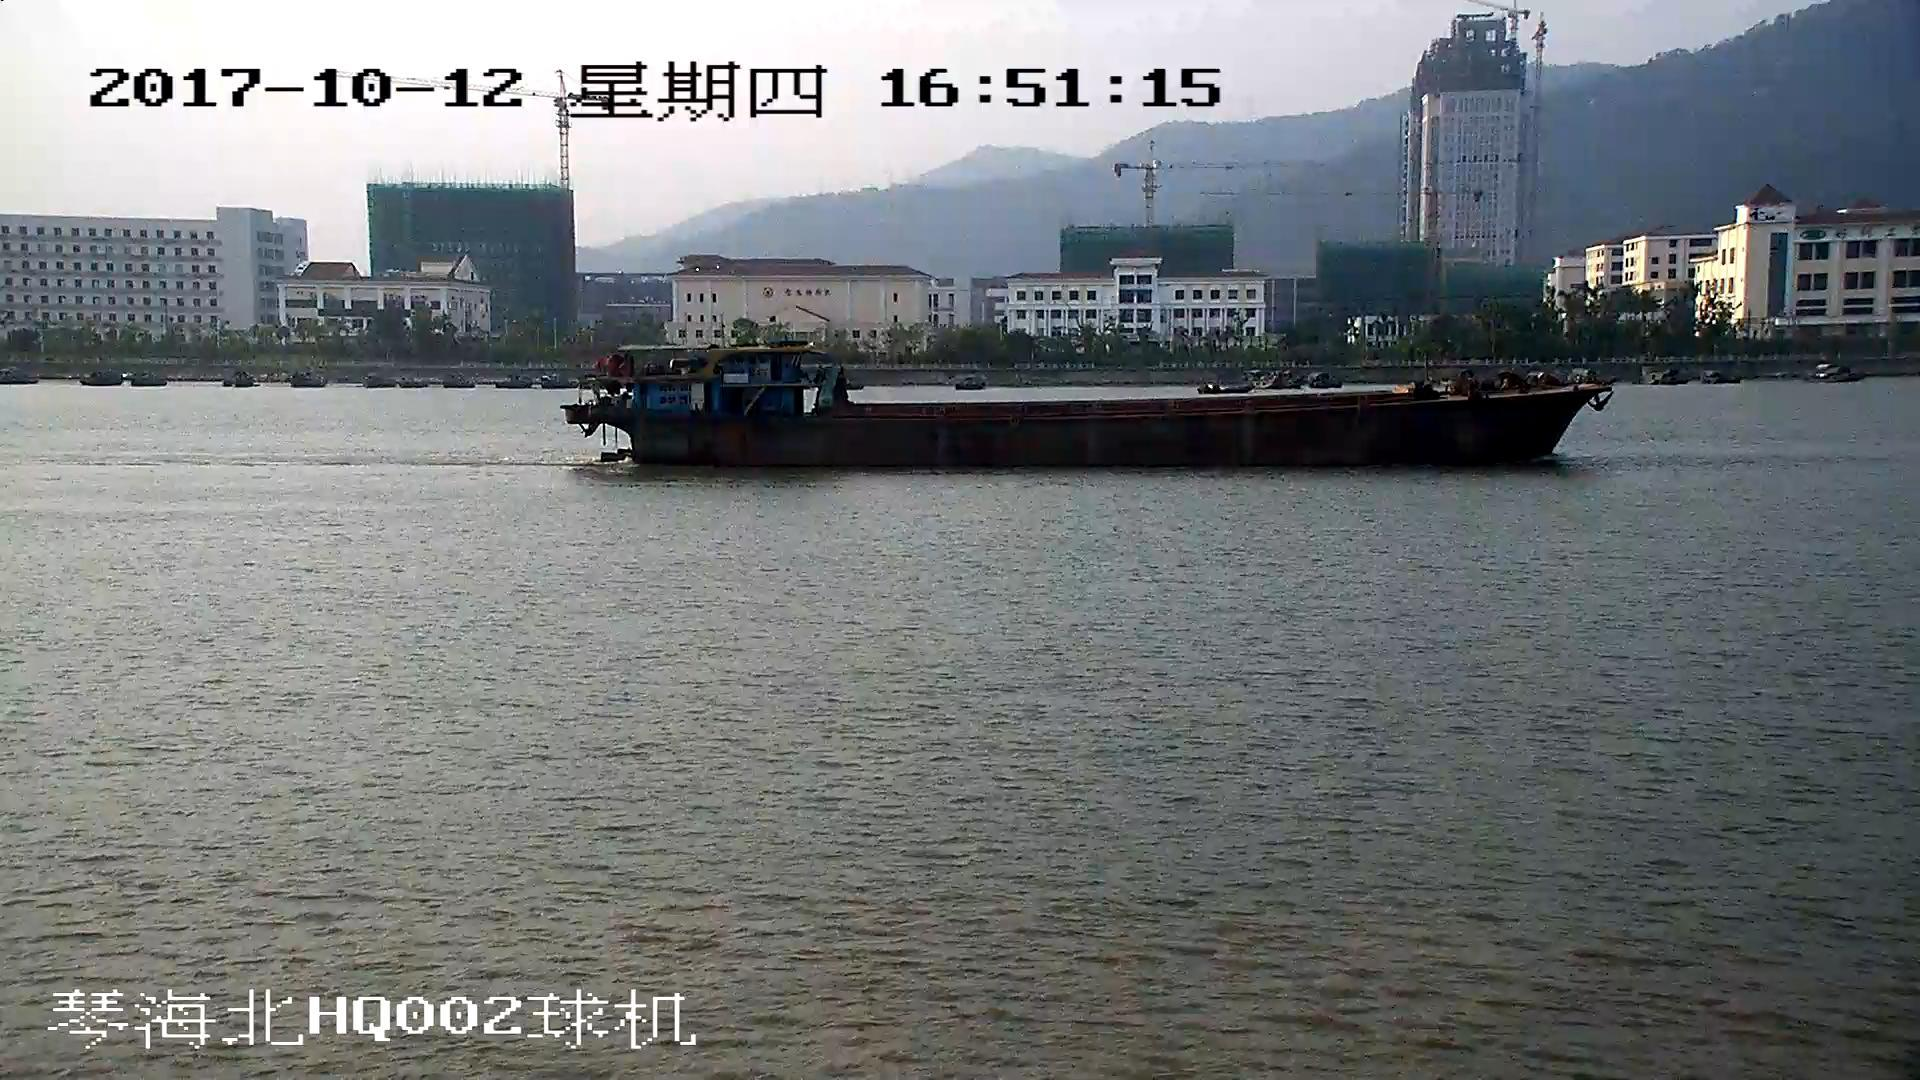Ship: (570, 345, 1611, 469)
